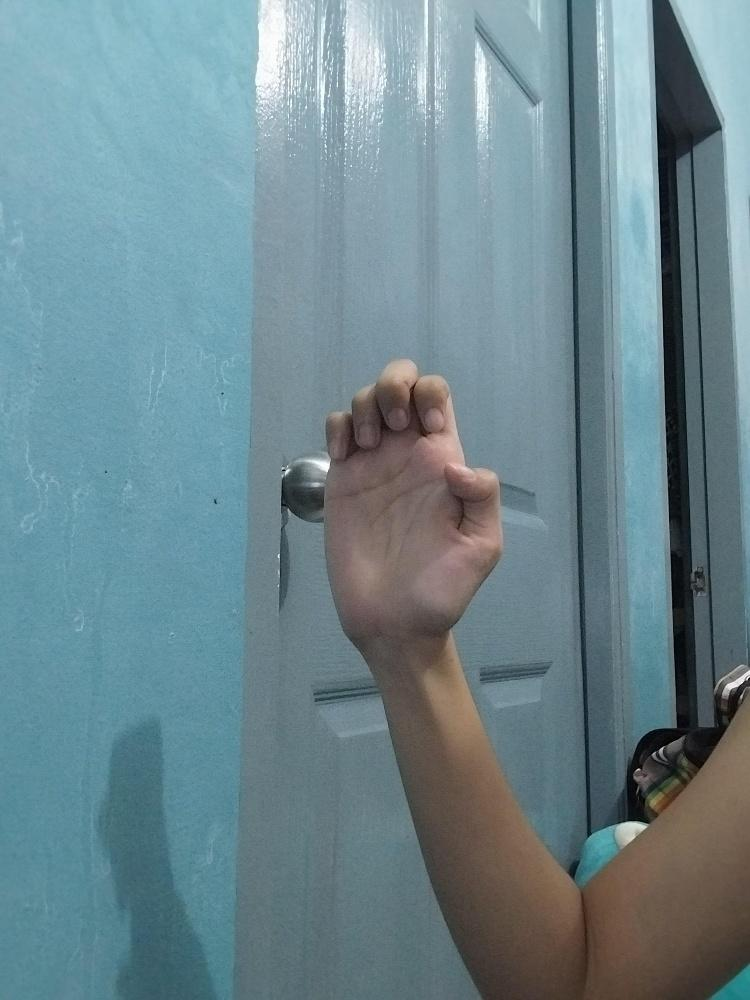e: (323, 357, 499, 643)
